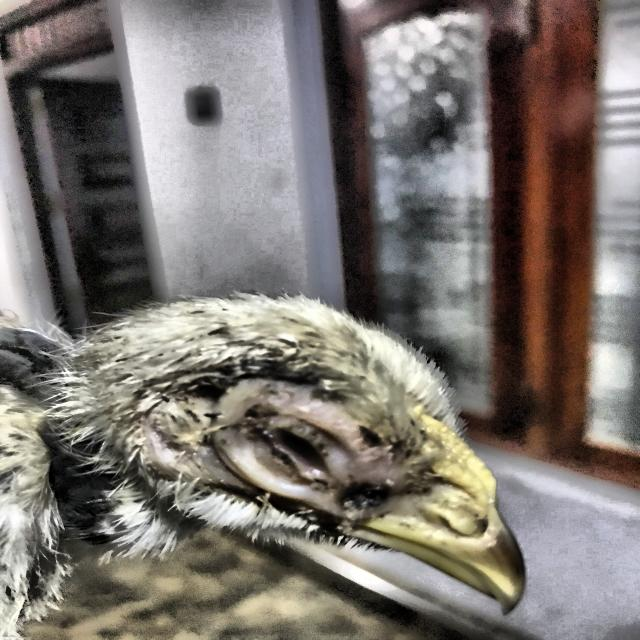Coryza: (72, 262, 602, 628)
